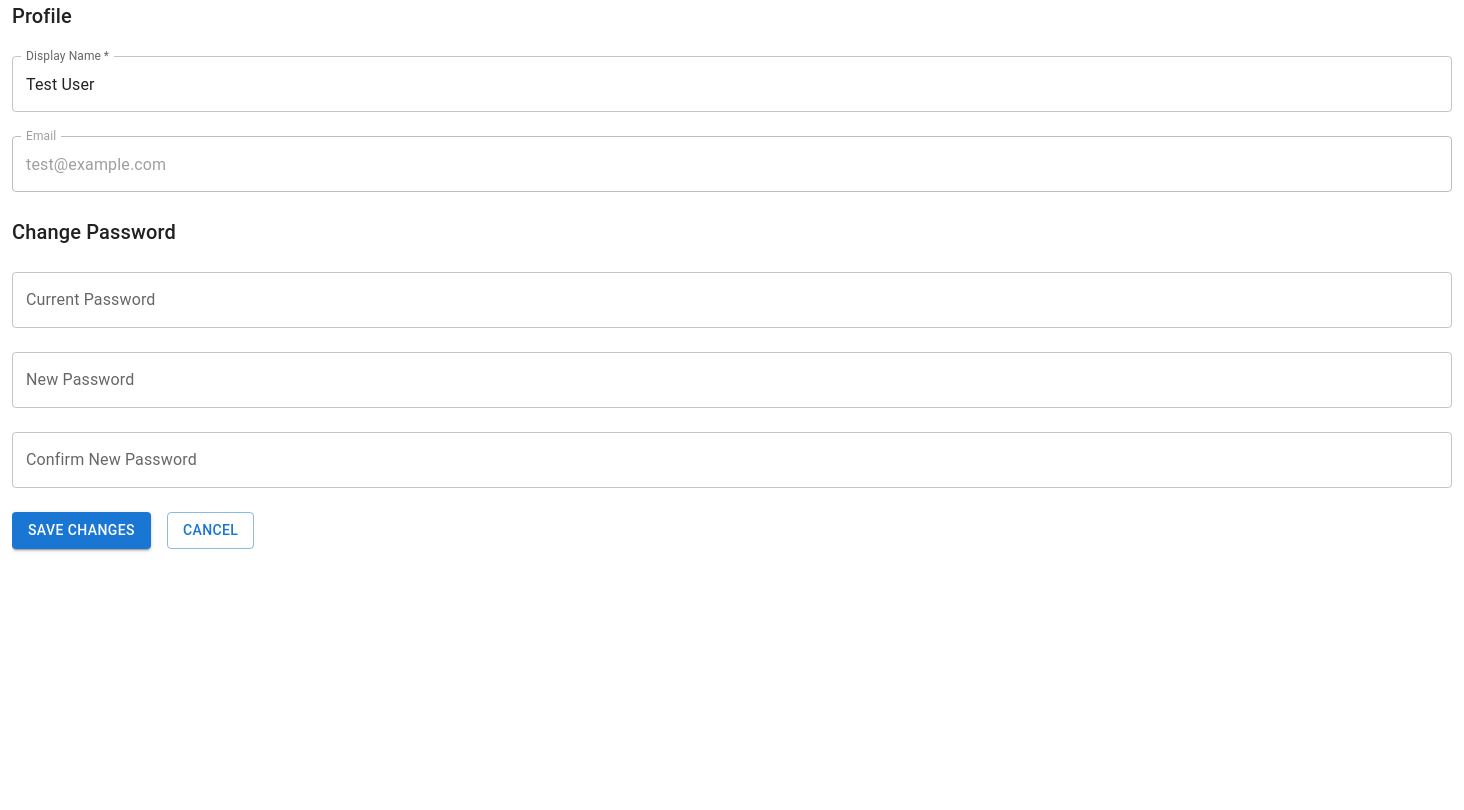
it: ProfileForm › Form Submission › should disable submit button while submitting
Step 1. Click the button "Save Changes" → (81, 530), box [12, 512, 151, 548]
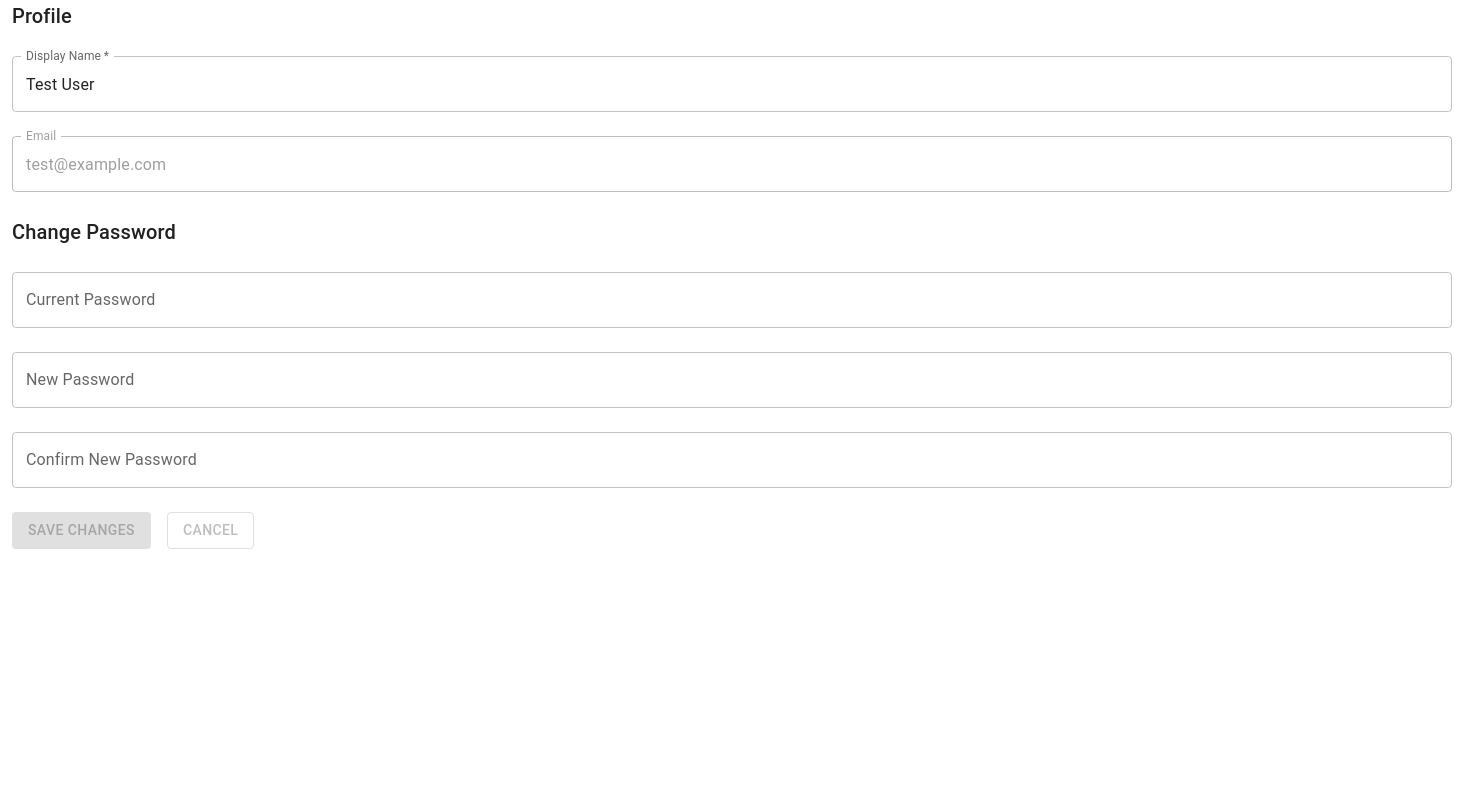
Expected: the button "Save Changes" is disabled, [12, 512, 151, 548]
